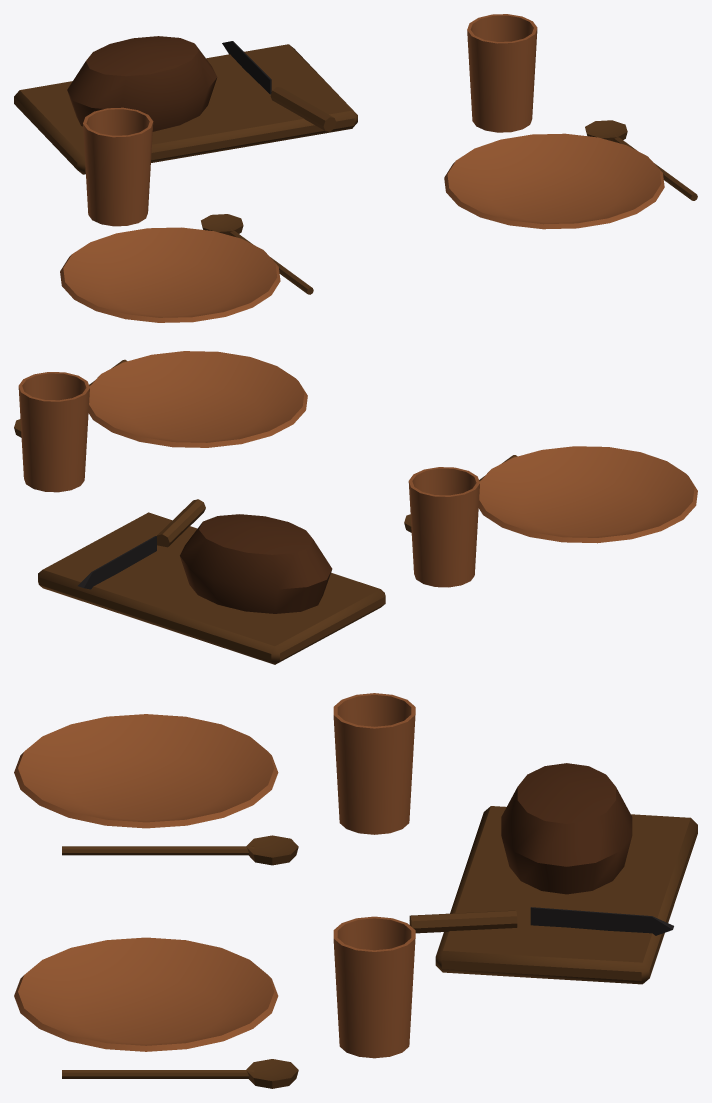
File: geschirr.glb
3 renders of one model, top to bottom at view 1: azimuth 30°, elevation 25°; view 2: azimuth 150°, elevation 25°; view 3: azimuth 270°, elevation 25°, orthographic. The views are drawn at different scales.
Parts seen in each view (by area): view 1: geschirr; view 2: geschirr; view 3: geschirr.
Boxes of the visible parts, left/top/right/bottom form: geschirr: left=14, top=14, right=697, bottom=322; geschirr: left=14, top=351, right=697, bottom=664; geschirr: left=14, top=693, right=697, bottom=1088.
Size of the model in its own units: 0.692 by 0.1 by 0.5692.
